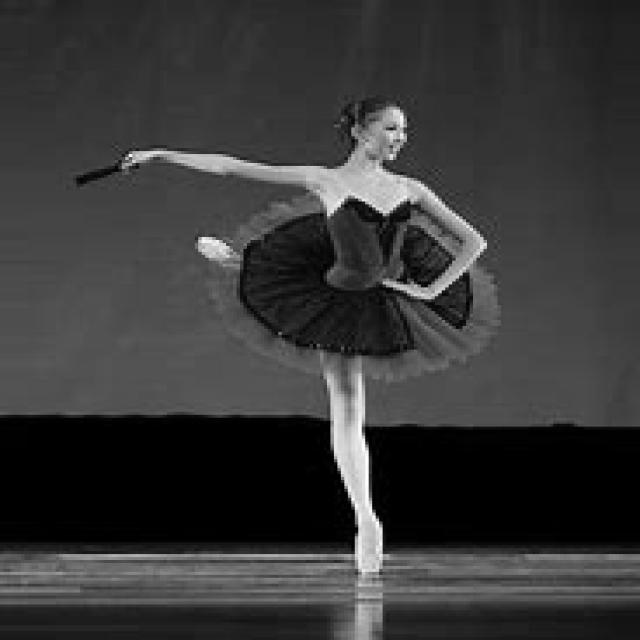stand: (232, 83, 460, 610)
